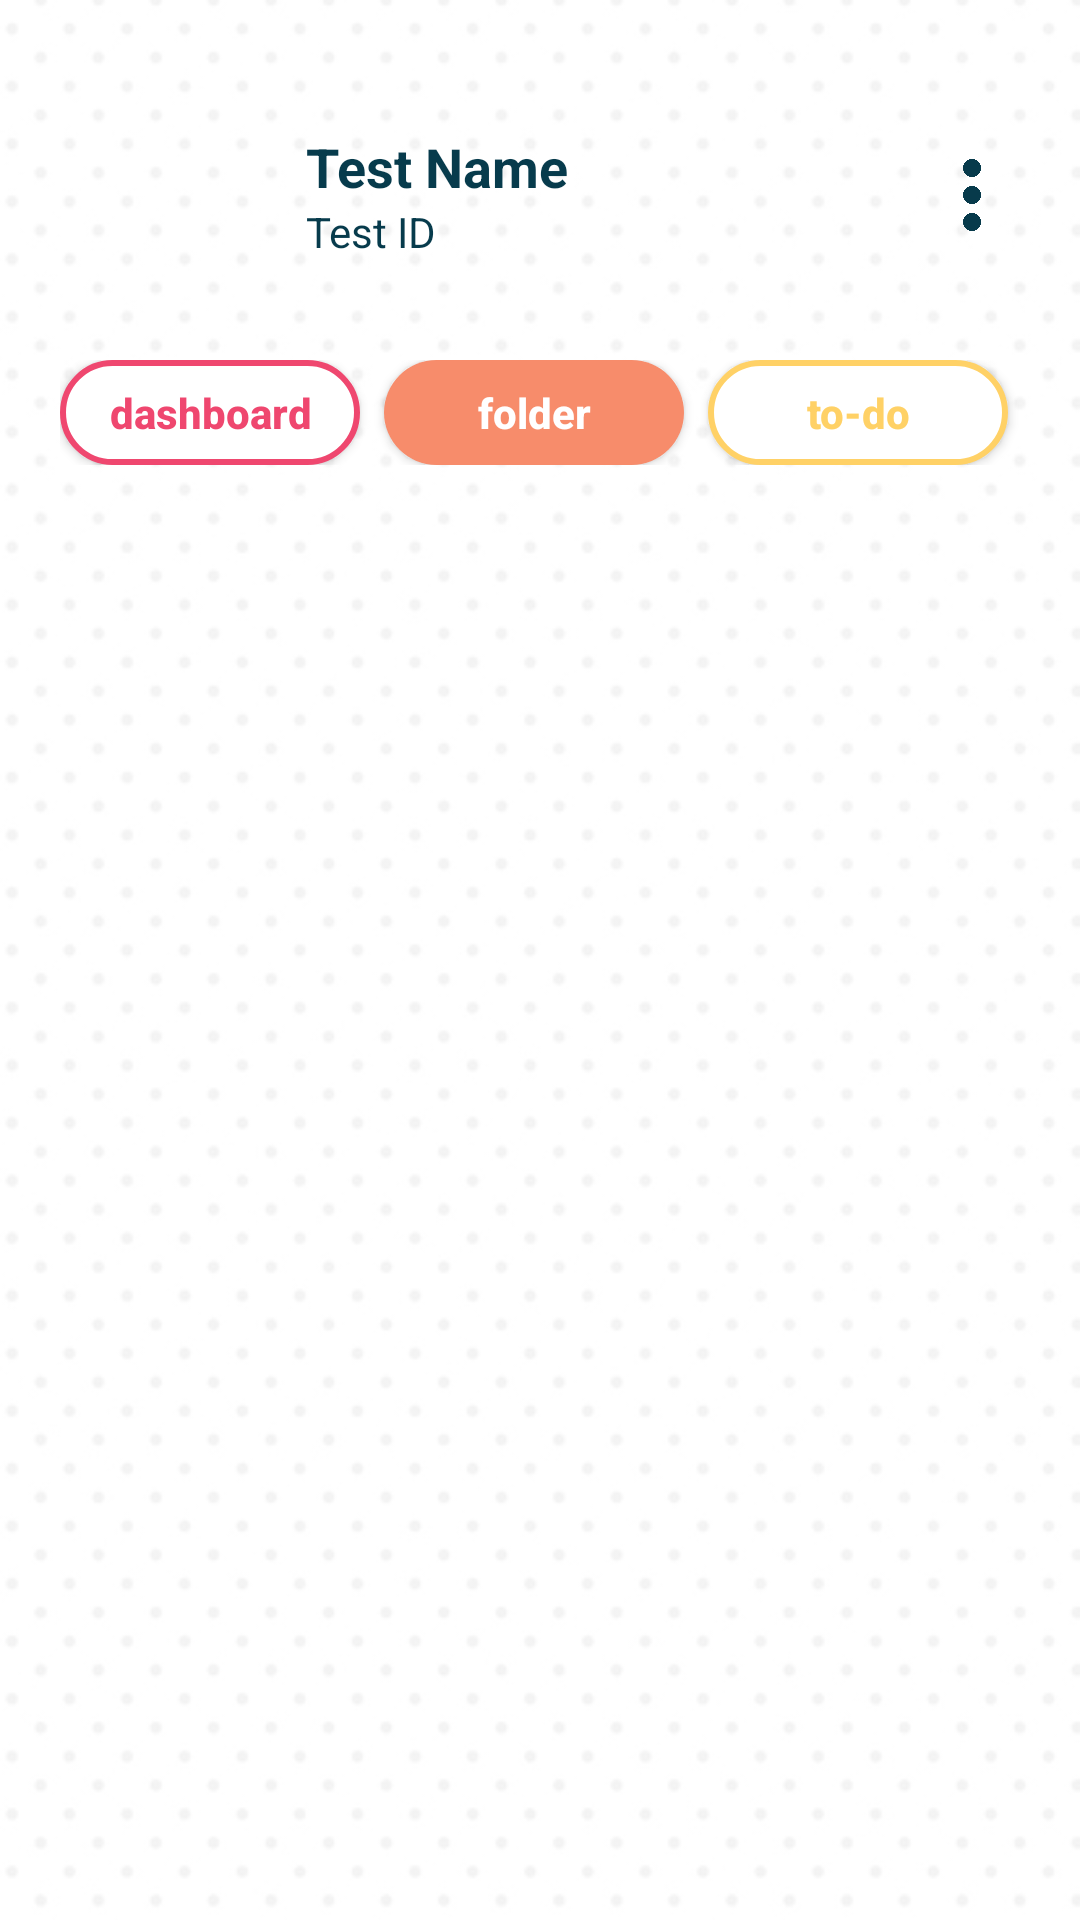

Named icons in this screenshot (1080 x 1920) and their centers, (x,y):
More Settings: (972,195)
